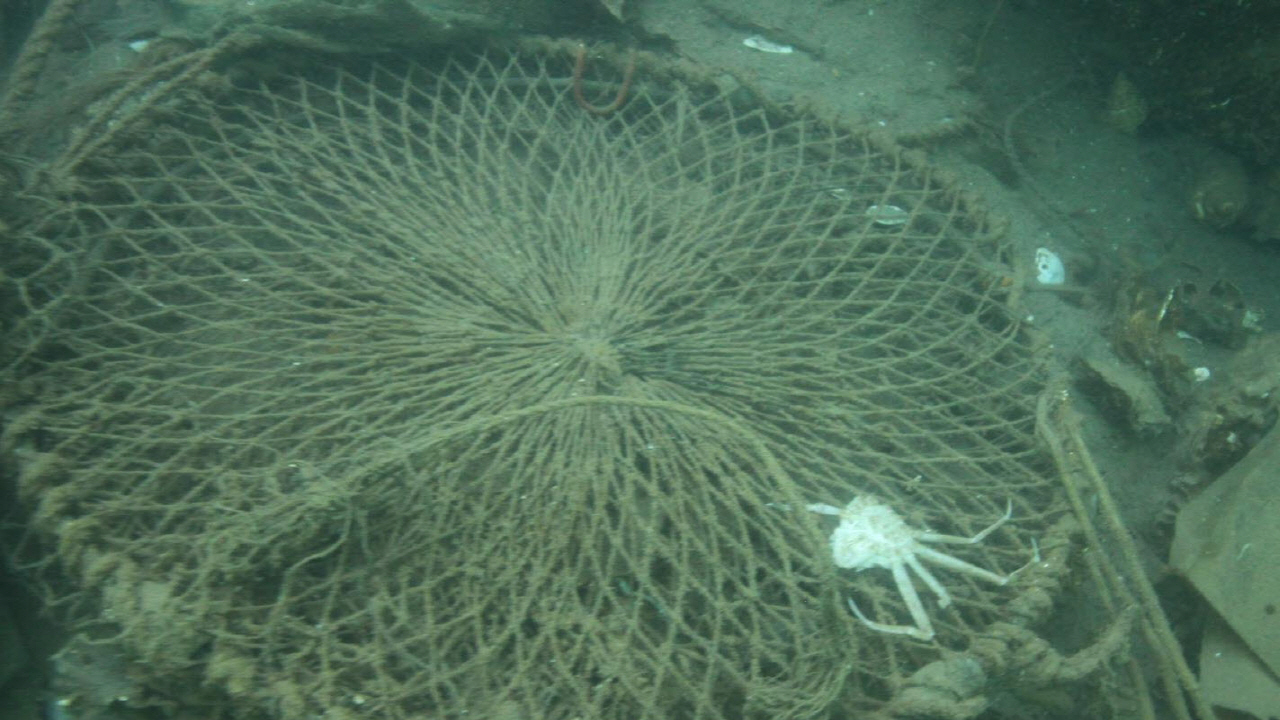circular fish trap: (0, 32, 1087, 720)
rope: (0, 0, 75, 114)
